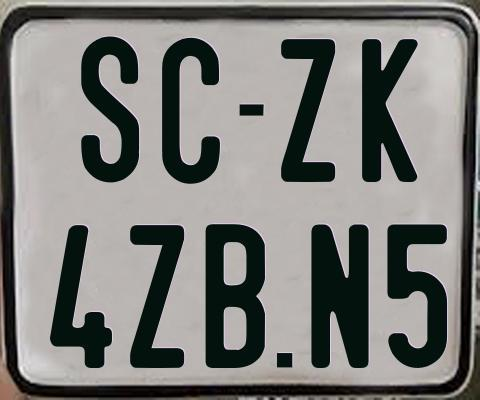4: (49, 225, 116, 371)
5: (387, 223, 453, 367)
B: (204, 223, 270, 373)
C: (162, 37, 221, 187)
K: (359, 37, 417, 180)
N: (311, 222, 370, 372)
S: (81, 33, 139, 184)
Z: (129, 225, 186, 369), (280, 39, 334, 187)
